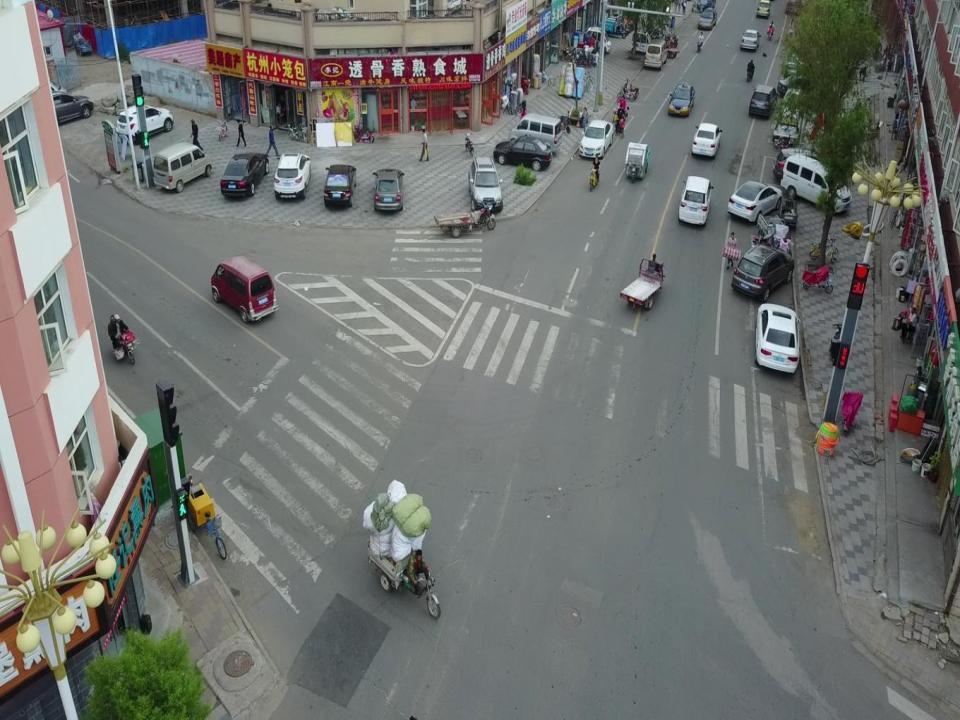car: (208, 252, 277, 321), (782, 150, 853, 216), (733, 244, 795, 302), (757, 301, 801, 375), (221, 150, 269, 202), (729, 179, 782, 224), (492, 134, 554, 170), (466, 158, 504, 213), (115, 104, 173, 140), (276, 152, 312, 200), (47, 87, 98, 120), (679, 176, 712, 226), (323, 161, 355, 209), (580, 120, 612, 160), (374, 168, 403, 212), (692, 121, 721, 159), (748, 84, 777, 118), (667, 82, 695, 116), (585, 25, 611, 53), (740, 28, 761, 52), (631, 31, 651, 53), (698, 7, 717, 29), (757, 0, 770, 18), (682, 0, 686, 15), (674, 0, 677, 10)
van: (149, 144, 212, 189), (509, 114, 563, 150), (645, 38, 667, 68)
